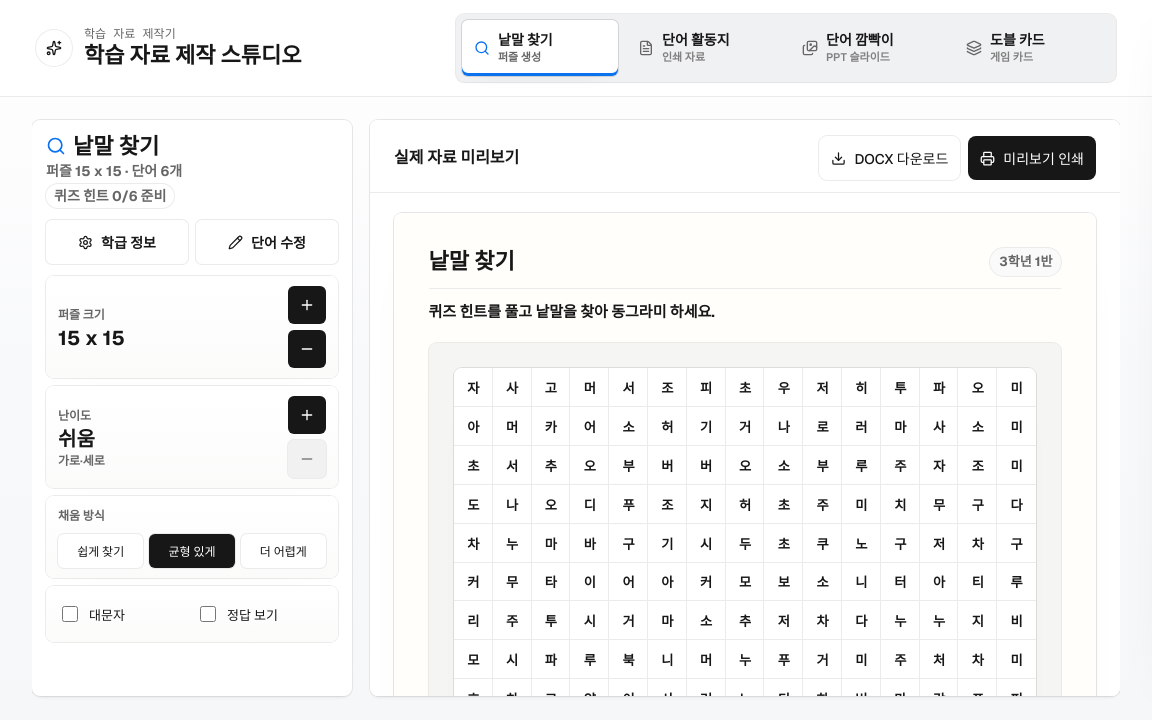
Test case: App › keeps sheet-based previews to a single compact header
Expected: the heading "낱말 찾기" in the row of "학년" is shown, [428,248,515,275]
Expected: the text named "학생 정보" reads "3학년 1반", [990,248,1062,276]
Click the button "단어 활동지 인쇄 자료". click: [704, 48]
box: [626,20,782,76]
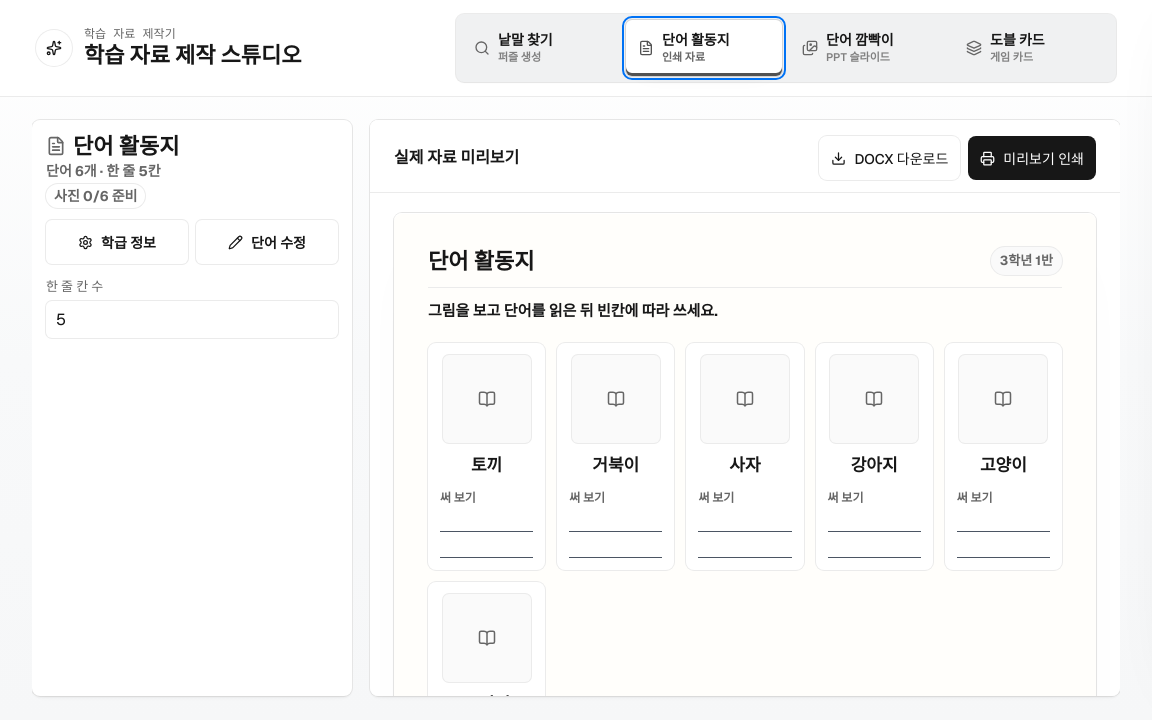
Expected: the text named "학생 정보" reads "3학년 1반", [991,247,1062,275]
Now the heading "단어 활동지" in the row of "학년" is shown, box [428,248,534,274]
